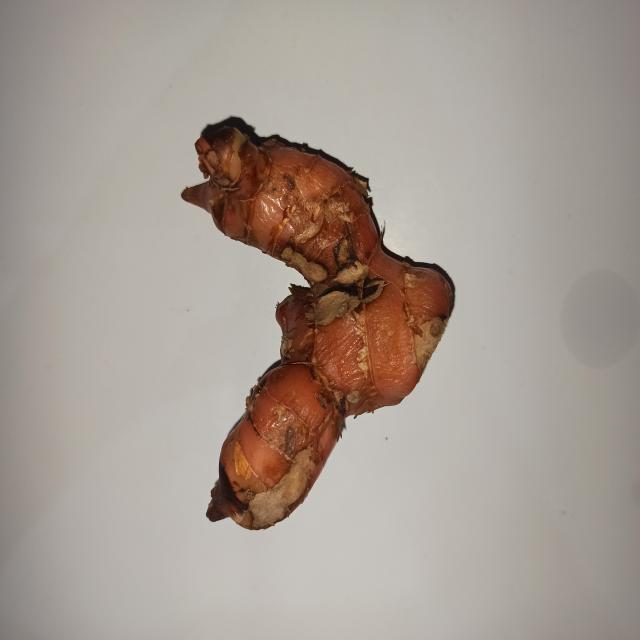ginger: (192, 131, 484, 549)
